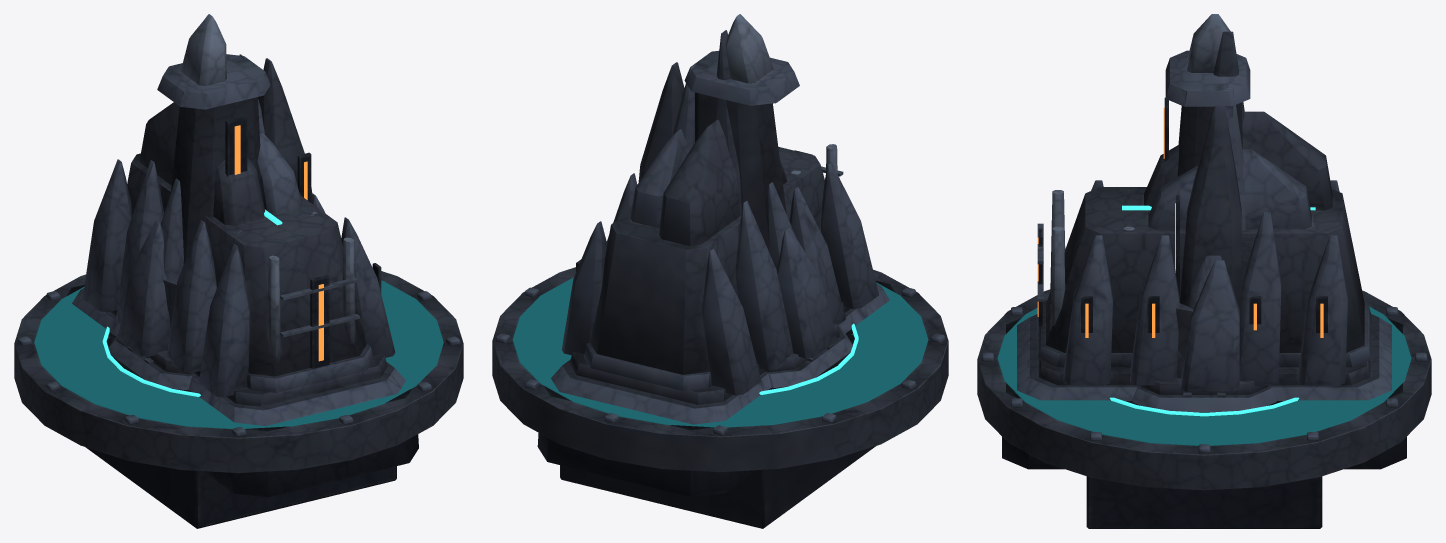
File: facility-kit-v4-ruins.glb
3 renders of one model, left to right at view 1: azimuth 30°, elevation 25°; view 2: azimuth 150°, elevation 25°; view 3: azimuth 270°, elevation 25°, orthographic.
Visible parts, largest first — view 1: fk_nacre_hall_l, fk_nacre_pool, fk_nacre_obelisk, fk_nacre_hall_s, fk_nacre_apron; view 2: fk_nacre_hall_l, fk_nacre_pool, fk_nacre_obelisk, fk_nacre_hall_s, fk_nacre_apron, fk_nacre_pump; view 3: fk_nacre_hall_l, fk_nacre_pool, fk_nacre_obelisk, fk_nacre_hall_s, fk_nacre_apron, fk_nacre_pump, fk_nacre_arc.
Part boxes in pixels (x1,y1,x2,y2): fk_nacre_hall_l: [66, 102, 418, 497]; fk_nacre_pool: [14, 271, 463, 473]; fk_nacre_obelisk: [106, 14, 312, 390]; fk_nacre_hall_s: [111, 160, 325, 391]; fk_nacre_apron: [85, 447, 396, 528]; fk_nacre_hall_l: [537, 119, 895, 496]; fk_nacre_pool: [492, 267, 948, 472]; fk_nacre_obelisk: [638, 14, 854, 388]; fk_nacre_hall_s: [606, 170, 845, 389]; fk_nacre_apron: [560, 446, 875, 528]; fk_nacre_pump: [672, 30, 741, 215]; fk_nacre_hall_l: [1002, 111, 1406, 469]; fk_nacre_pool: [977, 289, 1431, 490]; fk_nacre_obelisk: [1132, 14, 1276, 412]; fk_nacre_hall_s: [1123, 190, 1282, 387]; fk_nacre_apron: [1086, 476, 1322, 528]; fk_nacre_pump: [1213, 31, 1245, 229]; fk_nacre_arc: [1176, 303, 1193, 356].
Bounding box in the file's own units: 3.86 × 4.26 × 3.86.
4 materials, 1 textured.
